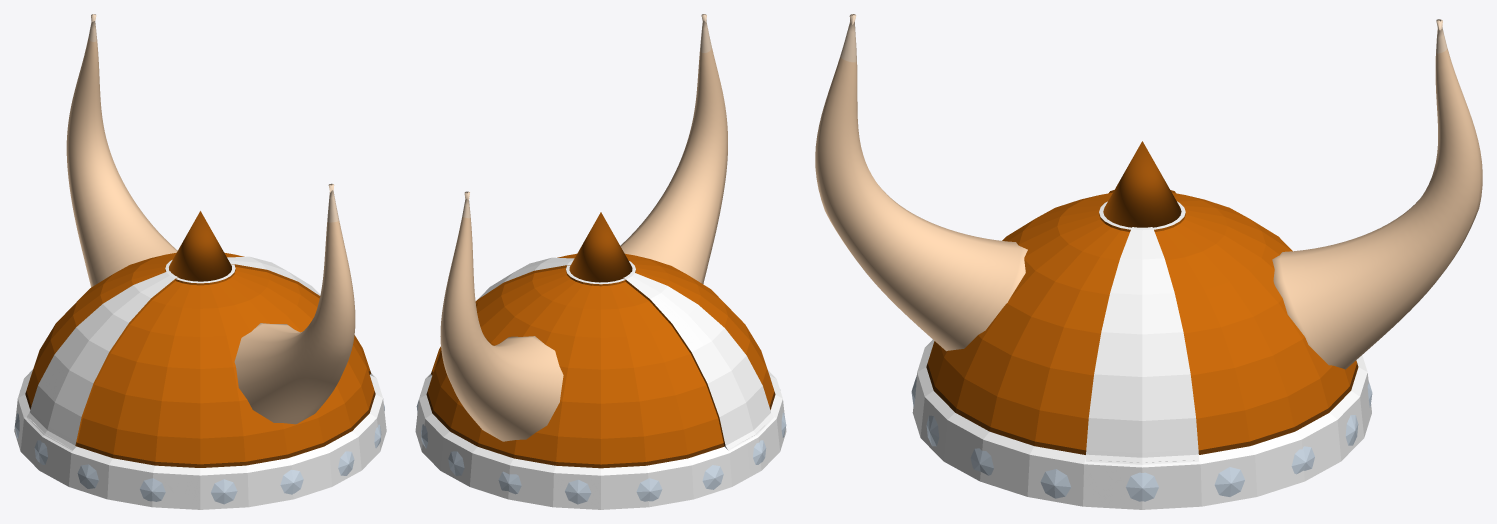
File: vikinghat (1).fbx
The picture shows the model from 3 angles, left to right: view 1: azimuth 30°, elevation 25°; view 2: azimuth 150°, elevation 25°; view 3: azimuth 270°, elevation 25°; orthographic projection. The views are drawn at different scales.
Visible parts, largest first — view 1: Sphere; view 2: Sphere; view 3: Sphere.
Part boxes in pixels (x1,y1,x2,y2): Sphere: (14,14,386,509); Sphere: (415,14,786,509); Sphere: (815,14,1482,509).
Bounding box in the file's own units: 207 × 202 × 300.
